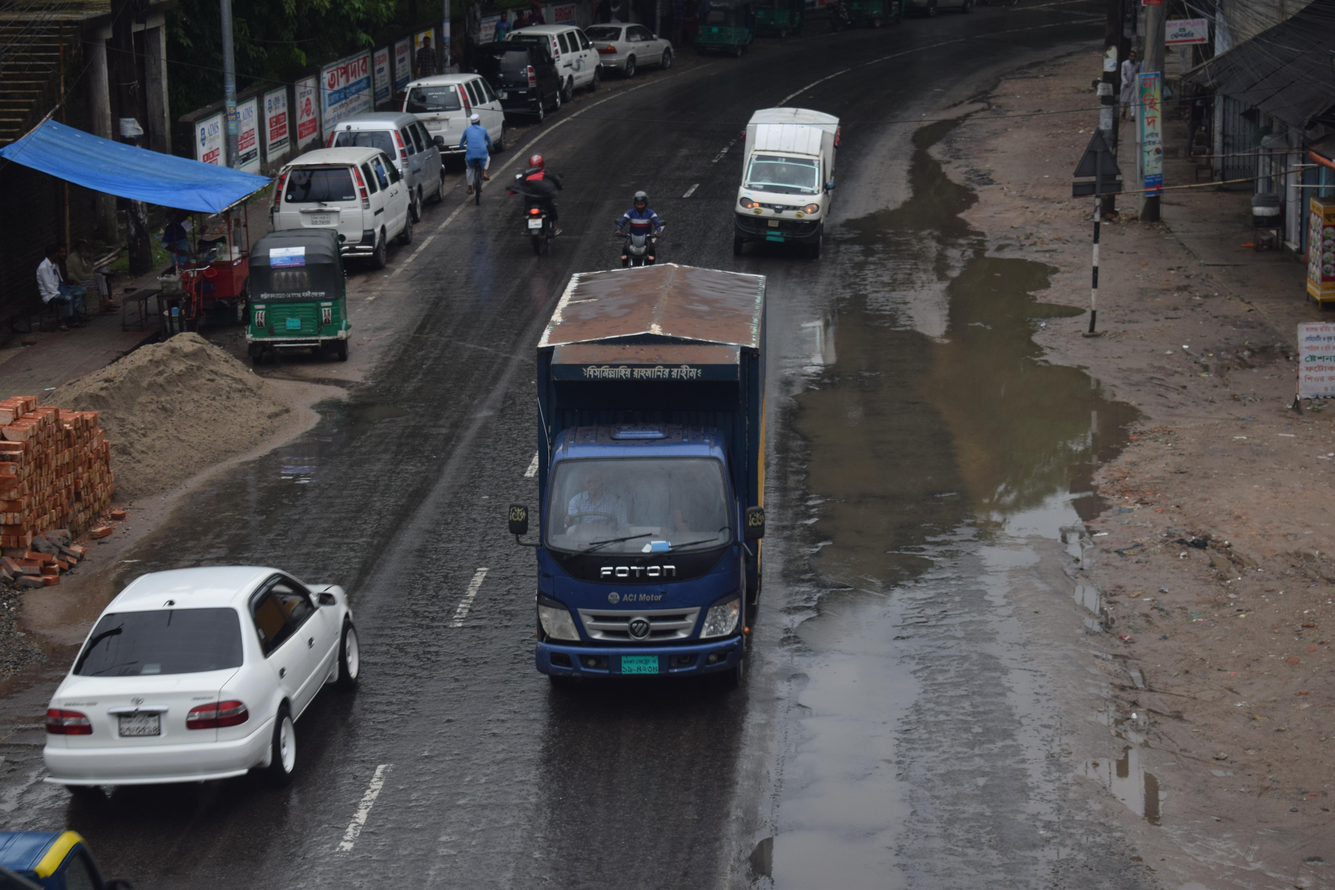Bike: (495, 136, 587, 268), (597, 164, 680, 273)
Car: (1, 548, 364, 831), (255, 143, 430, 291), (581, 12, 693, 85)
Truck: (512, 252, 795, 713), (715, 88, 855, 281)
